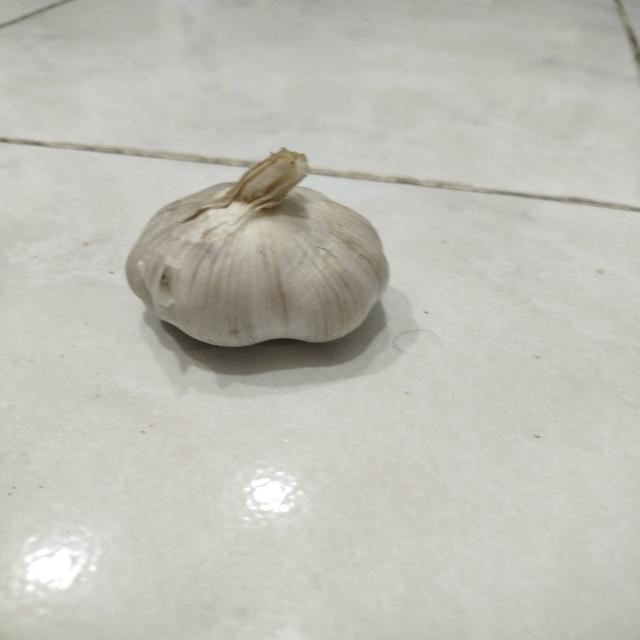garlic: (124, 147, 390, 348)
